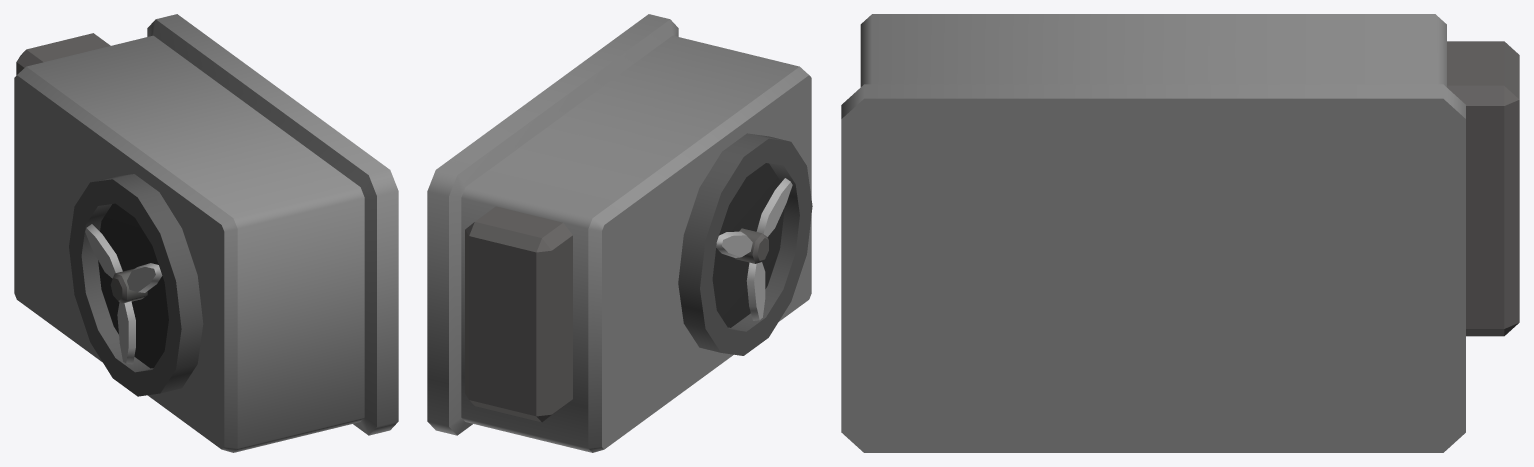
The model's file is VENTS_1_B.fbx.
The picture shows the model from 3 angles, left to right: view 1: azimuth 30°, elevation 25°; view 2: azimuth 150°, elevation 25°; view 3: azimuth 270°, elevation 25°; orthographic projection. The views are drawn at different scales.
Parts seen in each view (by area): view 1: VENTS_1_B, VENTS_1p_B; view 2: VENTS_1_B, VENTS_1p_B; view 3: VENTS_1_B.
Part boxes in pixels (<box>): VENTS_1_B: <box>14,14,398,452</box>; VENTS_1p_B: <box>85,224,162,364</box>; VENTS_1_B: <box>427,14,812,452</box>; VENTS_1p_B: <box>716,178,792,320</box>; VENTS_1_B: <box>841,14,1519,452</box>.
Size of the model in its own units: 52.35 by 67.12 by 116.
